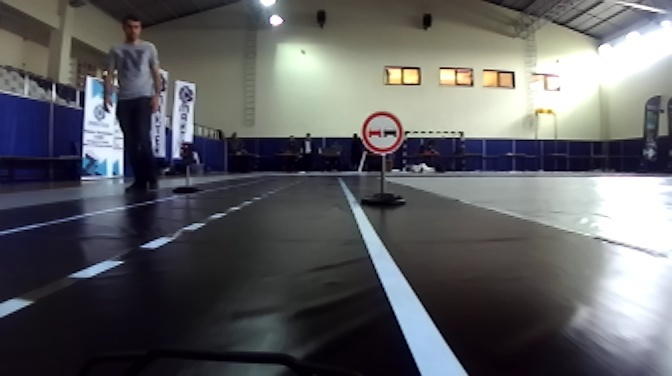sollama_yasak: (358, 112, 405, 154)
